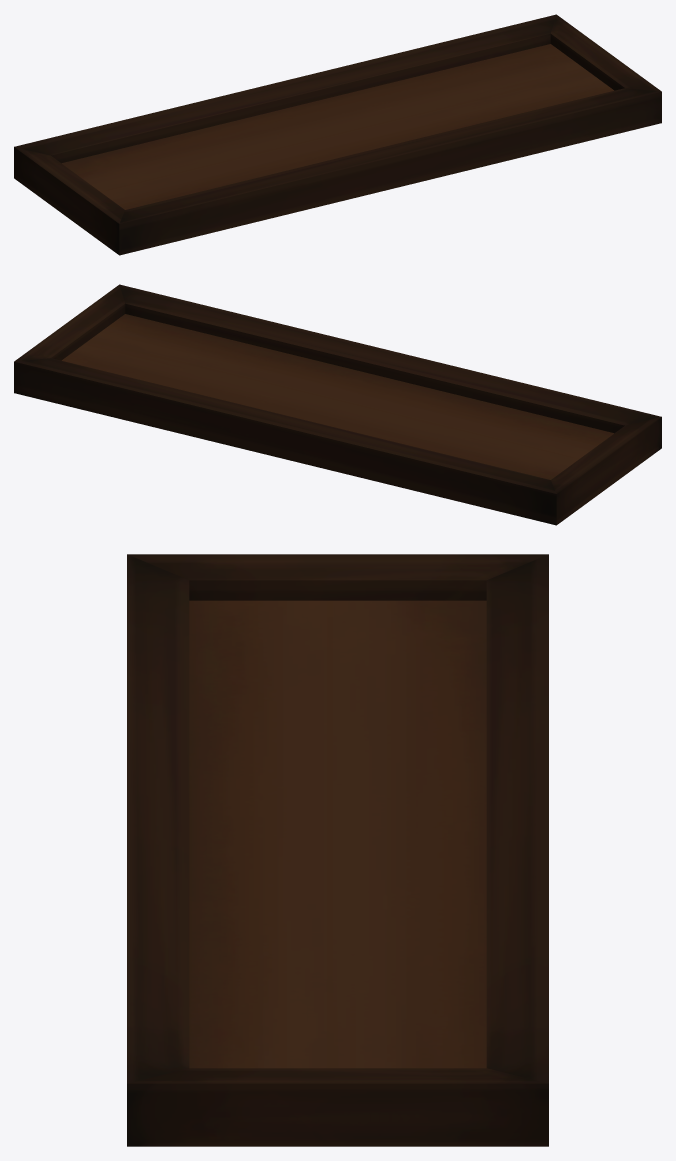
Rendered from Carriage8_Exit_Flap.fbx.
3 renders of one model, top to bottom at view 1: azimuth 30°, elevation 25°; view 2: azimuth 150°, elevation 25°; view 3: azimuth 270°, elevation 25°, orthographic. The views are drawn at different scales.
Visible parts, largest first — view 1: Frame, Door; view 2: Frame, Door; view 3: Door, Frame.
Boxes of the visible parts, box(x1,y1,x2,y2) form: Frame: box(14, 14, 661, 255); Door: box(62, 44, 613, 209); Frame: box(14, 284, 661, 525); Door: box(62, 314, 613, 479); Door: box(189, 600, 486, 1068); Frame: box(127, 554, 548, 1146).
Bounding box in the file's own units: 33.79 × 1.87 × 11.37.
